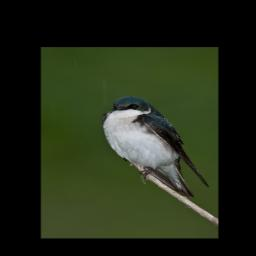Swallow: (99, 93, 210, 199)
